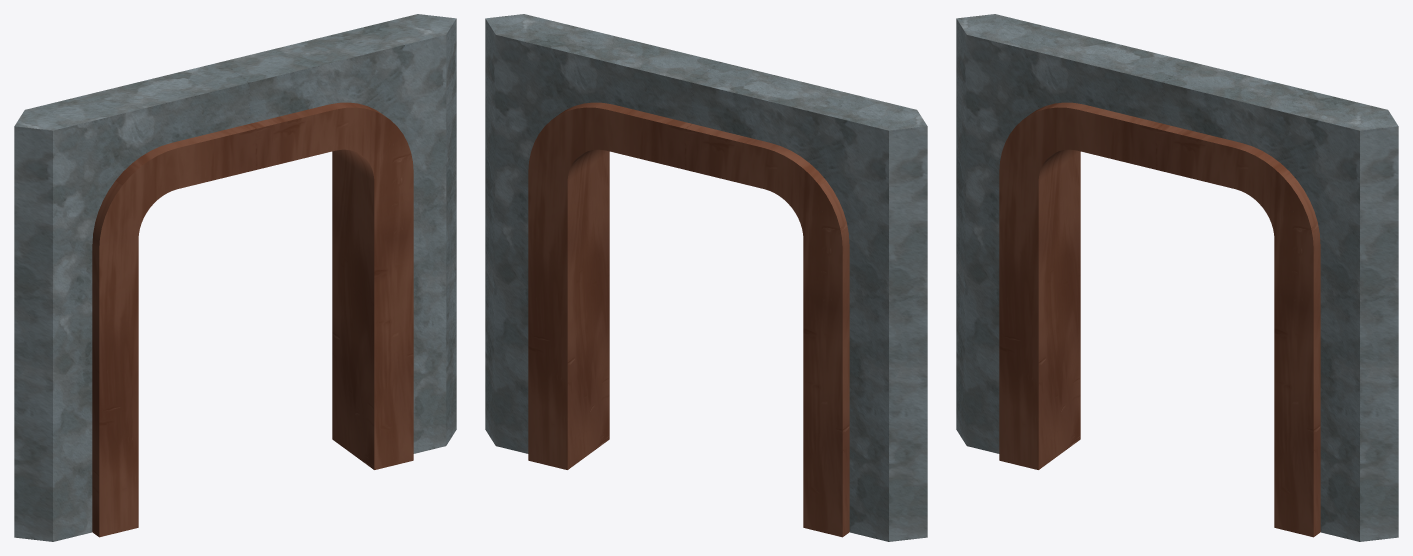
Rendered from Doorway_wide_curved.fbx.
3 views of the same model, side by side, from view 1: azimuth 30°, elevation 25°; view 2: azimuth 150°, elevation 25°; view 3: azimuth 330°, elevation 25° (orthographic).
Parts seen in each view (by area): view 1: doorway_wideRounded; view 2: doorway_wideRounded; view 3: doorway_wideRounded.
Part boxes in pixels (bbox=[...]): doorway_wideRounded: bbox=[14, 14, 456, 541]; doorway_wideRounded: bbox=[485, 14, 927, 541]; doorway_wideRounded: bbox=[956, 14, 1398, 541].
Bounding box in the file's own units: 11.25 × 10 × 1.85.
Materials: 2 (2 with a texture image).
